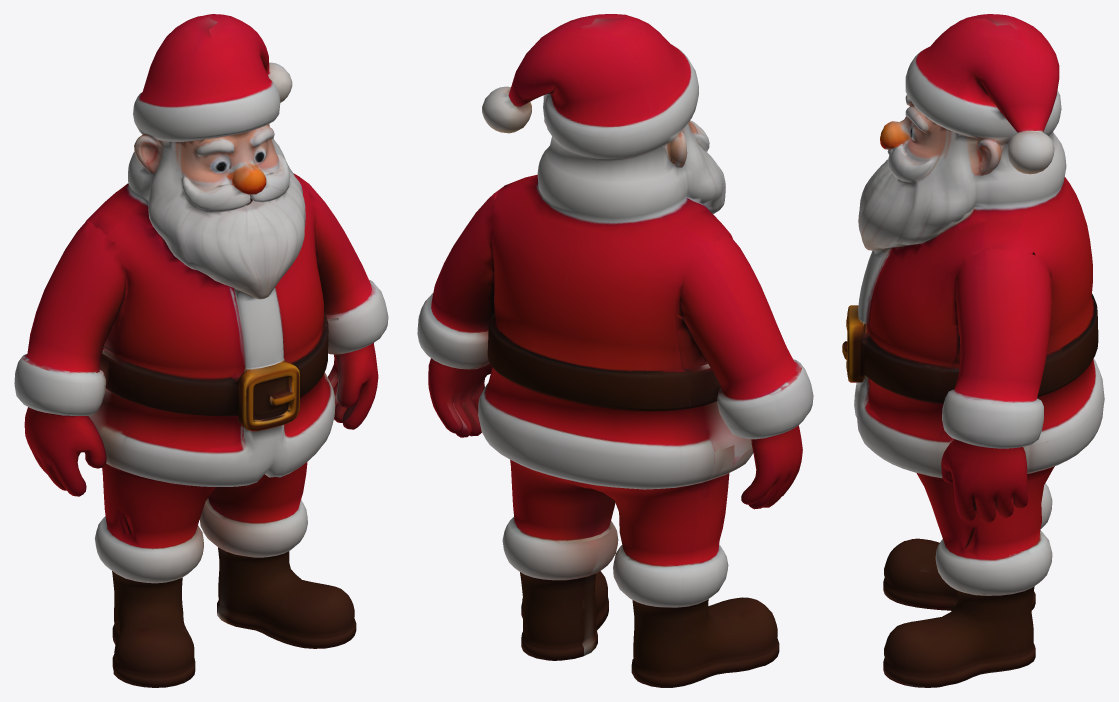
File: noel.glb
3 views of the same model, side by side, from view 1: azimuth 30°, elevation 25°; view 2: azimuth 150°, elevation 25°; view 3: azimuth 270°, elevation 25° (orthographic). The views are drawn at different scales.
Visible parts, largest first — view 1: texture_pbr_v128; view 2: texture_pbr_v128; view 3: texture_pbr_v128.
Boxes of the visible parts, left/top/right/bottom form: texture_pbr_v128: left=14, top=14, right=388, bottom=687; texture_pbr_v128: left=417, top=14, right=813, bottom=687; texture_pbr_v128: left=842, top=14, right=1104, bottom=687.
Size of the model in its own units: 3.13 by 5.01 by 1.94.
Materials: 1 (1 with a texture image).
